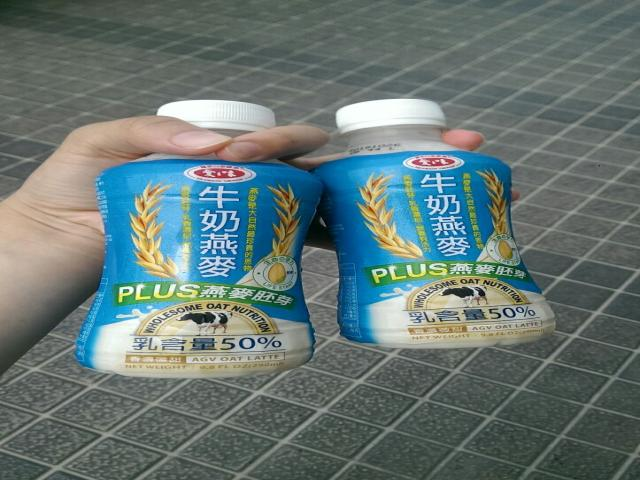bottle: (314, 98, 553, 349), (75, 154, 321, 378), (158, 100, 274, 136)
